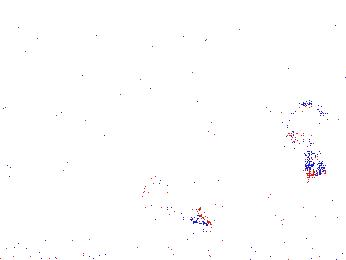flame jellyfish: (282, 92, 332, 177), (139, 170, 211, 228), (274, 172, 346, 228)
